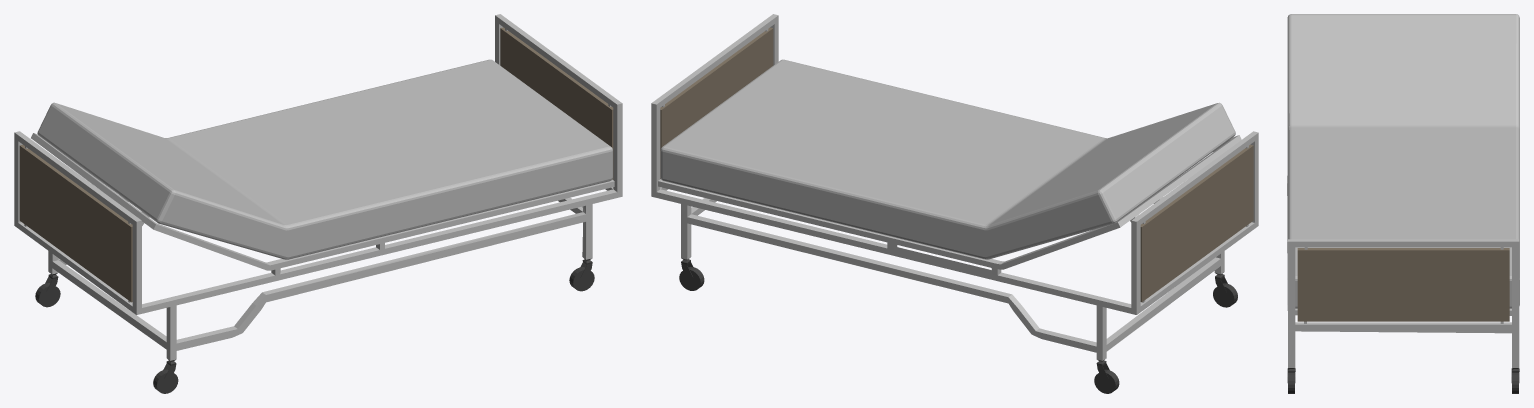
Rendered from Raised-Bed.fbx.
The picture shows the model from 3 angles, left to right: view 1: azimuth 30°, elevation 25°; view 2: azimuth 150°, elevation 25°; view 3: azimuth 270°, elevation 25°; orthographic projection. The views are drawn at different scales.
Visible parts, largest first — view 1: Raised_Bed; view 2: Raised_Bed; view 3: Raised_Bed.
Part boxes in pixels (box(x1,y1,x2,y2)): Raised_Bed: box(14, 14, 622, 393); Raised_Bed: box(651, 14, 1258, 393); Raised_Bed: box(1287, 14, 1519, 393).
Bounding box in the file's own units: 4.64 × 1.83 × 2.03.
